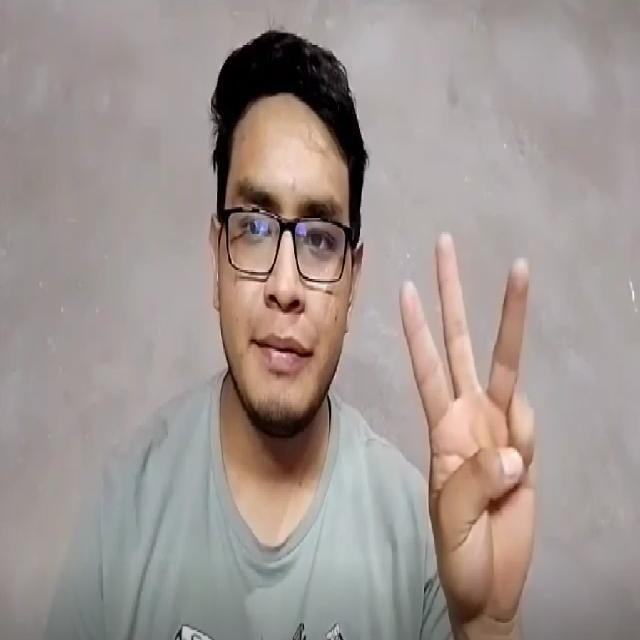W: (384, 217, 563, 618)
